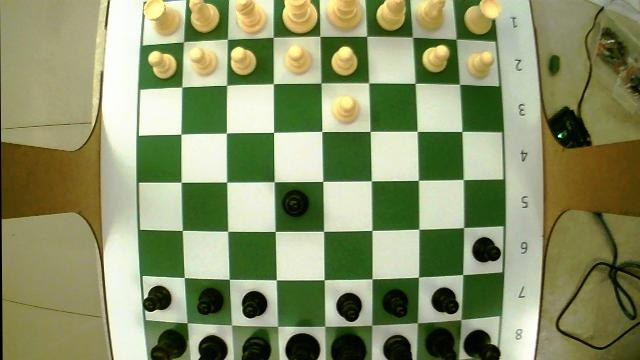piece: (281, 0, 319, 33), (144, 0, 179, 35), (465, 0, 499, 33), (326, 0, 362, 30), (284, 0, 316, 33), (153, 326, 186, 358), (189, 0, 219, 33), (331, 329, 366, 357), (236, 0, 265, 33), (426, 328, 456, 359), (415, 0, 445, 30), (464, 2, 493, 33), (465, 330, 498, 357), (376, 0, 405, 30), (375, 1, 403, 29), (243, 329, 270, 358), (331, 46, 357, 76), (286, 334, 319, 357), (148, 51, 176, 78), (192, 1, 219, 28), (198, 285, 225, 312), (190, 46, 216, 74), (423, 45, 449, 72), (331, 46, 356, 74), (382, 289, 407, 317), (420, 45, 447, 70), (384, 335, 412, 359), (231, 47, 256, 73), (432, 288, 458, 313), (337, 293, 361, 320), (287, 45, 310, 73), (282, 190, 307, 215), (383, 335, 410, 358), (474, 236, 498, 261), (242, 290, 265, 316), (433, 288, 457, 312), (467, 51, 491, 75), (231, 49, 254, 74), (199, 336, 226, 357), (145, 285, 169, 308), (191, 50, 214, 73), (286, 48, 308, 72), (337, 96, 358, 121), (468, 52, 489, 77), (333, 96, 356, 114), (151, 54, 164, 64), (156, 65, 169, 72)
